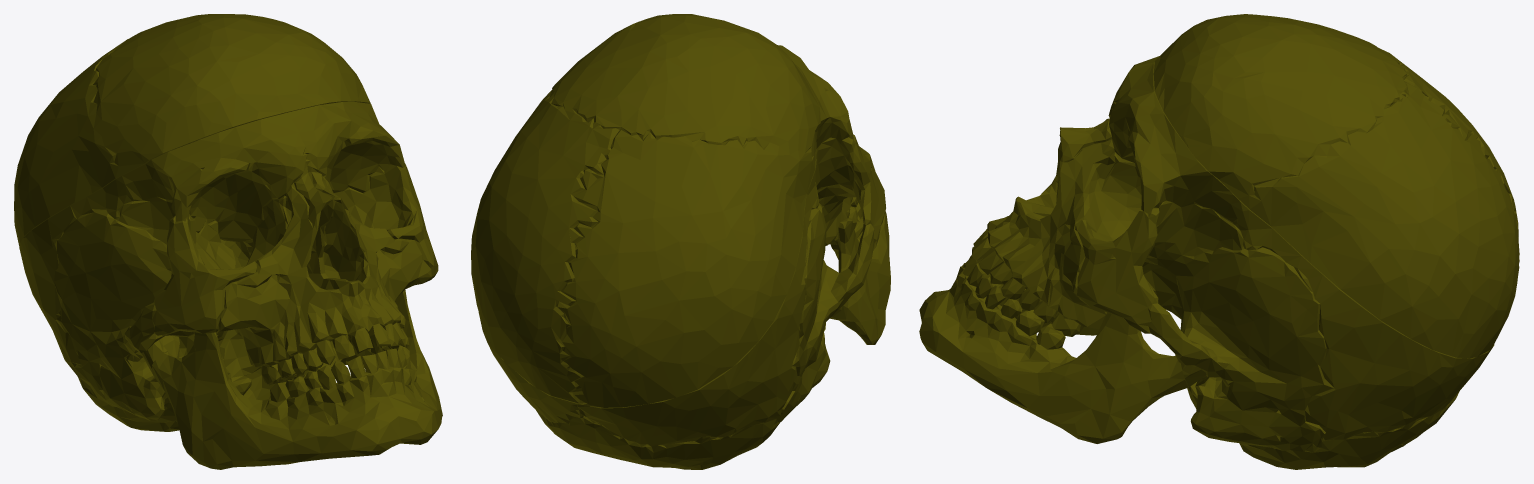
The model's file is ufo_skul.fbx.
The picture shows the model from 3 angles, left to right: view 1: azimuth 30°, elevation 25°; view 2: azimuth 150°, elevation 25°; view 3: azimuth 270°, elevation 25°; orthographic projection. The views are drawn at different scales.
Visible parts, largest first — view 1: ufo_skul; view 2: ufo_skul; view 3: ufo_skul.
Boxes of the visible parts, x1,y1,x2,y2 form: ufo_skul: (14,14,442,469); ufo_skul: (471,14,890,469); ufo_skul: (919,14,1519,469).
Bounding box in the file's own units: 22.32 × 28.51 × 37.68.
